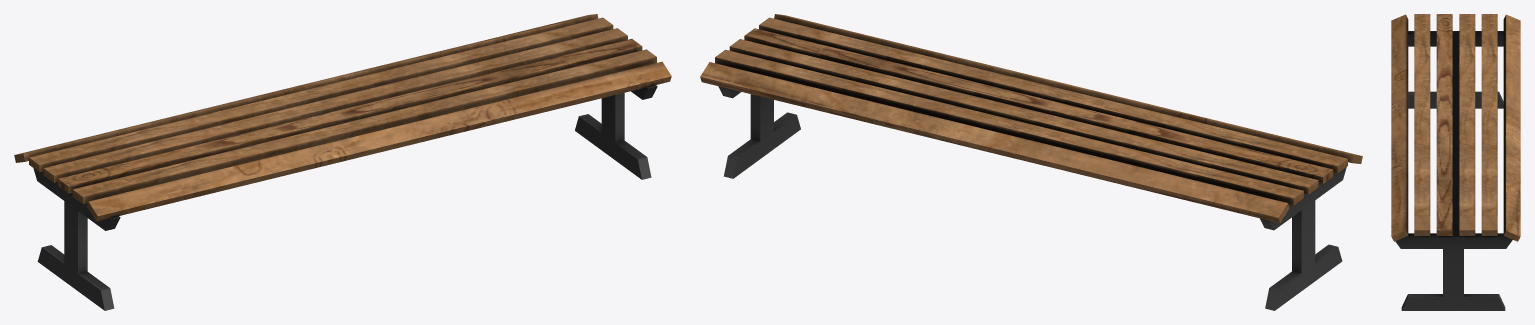
The model's file is Vench.fbx.
3 renders of one model, left to right at view 1: azimuth 30°, elevation 25°; view 2: azimuth 150°, elevation 25°; view 3: azimuth 270°, elevation 25°, orthographic. The views are drawn at different scales.
Parts seen in each view (by area): view 1: bench; view 2: bench; view 3: bench.
Boxes of the visible parts, x1=… form: bench: x1=14, y1=14, x2=671, y2=310; bench: x1=700, y1=14, x2=1362, y2=310; bench: x1=1391, y1=14, x2=1520, y2=310.
Size of the model in its own units: 0.0904 by 0.0167 by 0.0228.
Materials: 1 (1 with a texture image).
